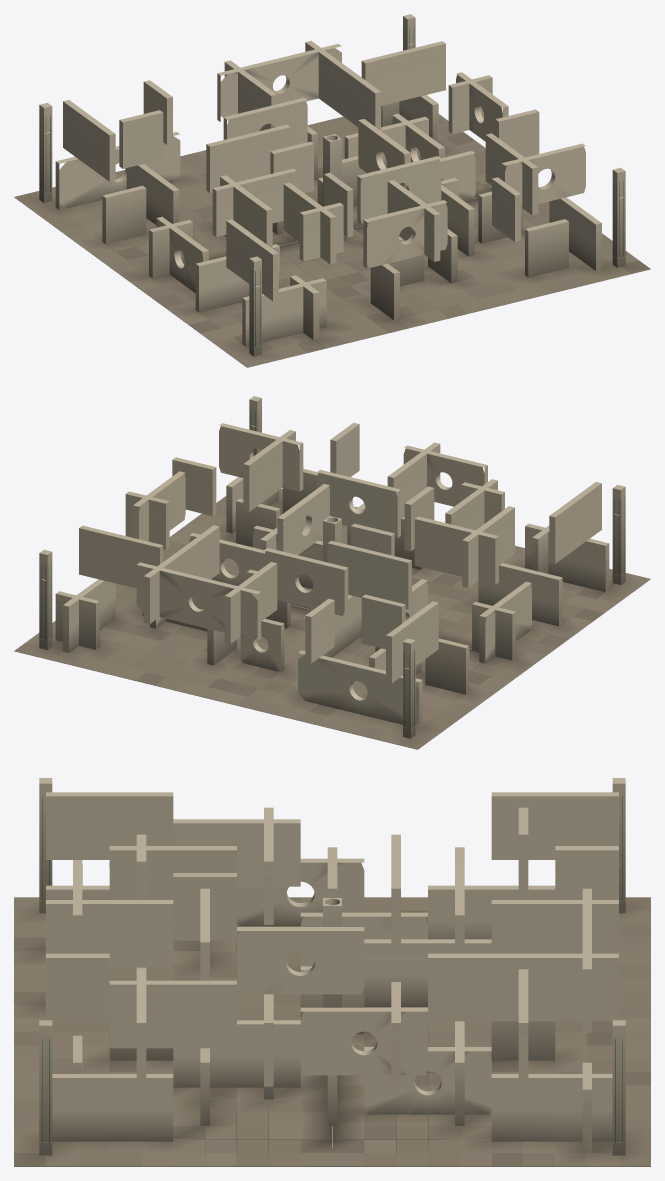
File: 01_world.glb
3 renders of one model, top to bottom at view 1: azimuth 30°, elevation 25°; view 2: azimuth 150°, elevation 25°; view 3: azimuth 270°, elevation 25°, orthographic. The views are drawn at different scales.
Parts seen in each view (by area): view 1: world_01_body_nocol, world_11_body_nocol, world_00_body_nocol, world_10_body_nocol, world_01_floor_noshadow_nocol, world_11_floor_noshadow_nocol, world_00_floor_noshadow_nocol, world_10_floor_noshadow_nocol; view 2: world_01_body_nocol, world_00_body_nocol, world_11_body_nocol, world_10_body_nocol, world_10_floor_noshadow_nocol, world_00_floor_noshadow_nocol, world_01_floor_noshadow_nocol, world_11_floor_noshadow_nocol; view 3: world_11_body_nocol, world_10_body_nocol, world_01_body_nocol, world_00_body_nocol, world_11_floor_noshadow_nocol, world_10_floor_noshadow_nocol, world_01_floor_noshadow_nocol, world_00_floor_noshadow_nocol, world_11_trim_noshadow_nocol.
Part boxes in pixels (x1,y1,x2,y2): world_01_body_nocol: (149,141,447,356); world_11_body_nocol: (317,109,625,286); world_00_body_nocol: (39,80,307,244); world_10_body_nocol: (217,14,508,206); world_01_floor_noshadow_nocol: (131,241,448,367); world_11_floor_noshadow_nocol: (344,197,650,318); world_00_floor_noshadow_nocol: (14,150,297,282); world_10_floor_noshadow_nocol: (304,114,491,227); world_01_body_nocol: (351,445,625,663); world_00_body_nocol: (240,540,469,738); world_11_body_nocol: (172,396,440,588); world_10_body_nocol: (39,471,290,665); world_10_floor_noshadow_nocol: (14,583,312,700); world_00_floor_noshadow_nocol: (216,635,533,749); world_01_floor_noshadow_nocol: (412,546,650,664); world_11_floor_noshadow_nocol: (163,488,357,609); world_11_body_nocol: (39,888,364,1155); world_10_body_nocol: (300,888,625,1155); world_01_body_nocol: (39,778,364,953); world_00_body_nocol: (300,778,625,1006); world_11_floor_noshadow_nocol: (14,1032,332,1166); world_10_floor_noshadow_nocol: (332,1032,650,1166); world_01_floor_noshadow_nocol: (14,897,311,1031); world_00_floor_noshadow_nocol: (364,897,650,1031); world_11_trim_noshadow_nocol: (39,916,300,1142).
Bounding box in the file's own units: 200 × 45.12 × 200.
